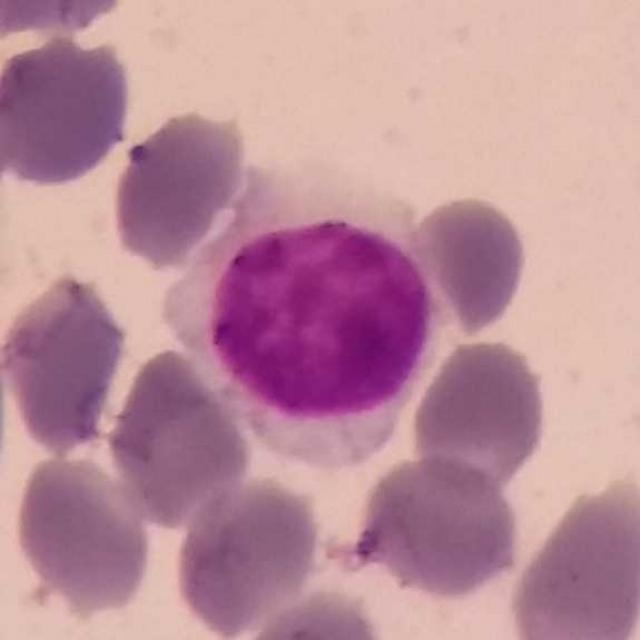Lymphocyte: (167, 168, 445, 471)
RBC: (100, 342, 257, 528), (168, 472, 327, 639), (348, 451, 526, 600), (0, 265, 135, 460), (7, 446, 157, 617), (105, 104, 252, 268), (406, 333, 553, 496), (502, 472, 640, 640), (0, 29, 138, 189), (404, 190, 533, 338), (223, 587, 396, 640), (0, 0, 137, 46), (0, 0, 61, 46)
